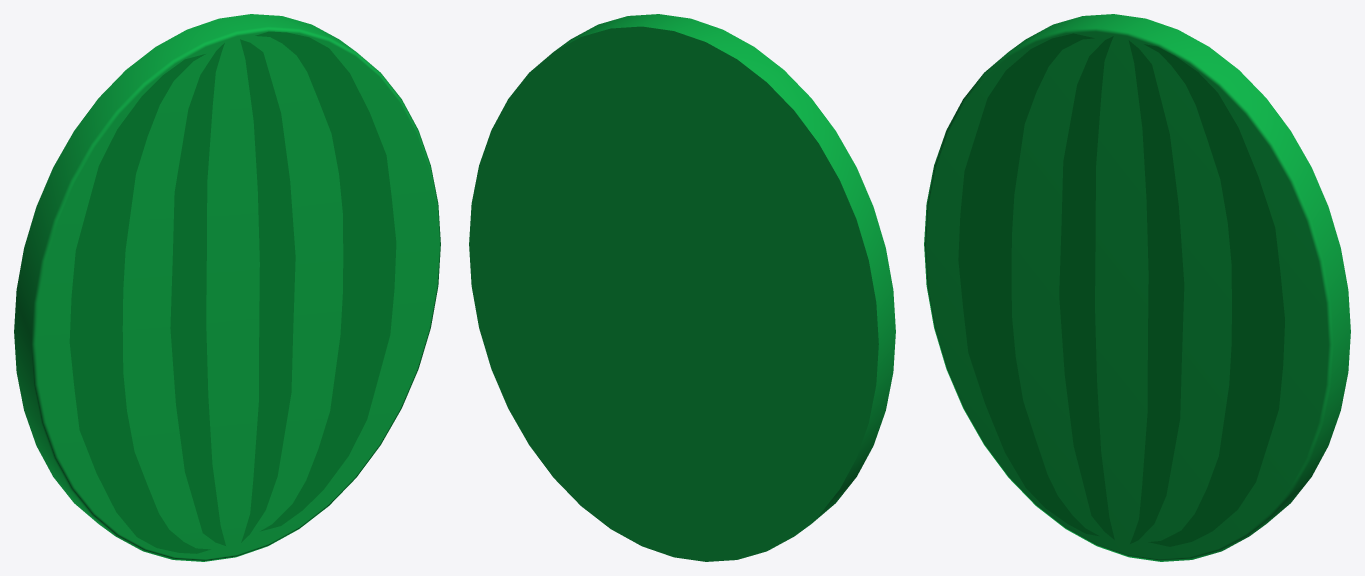
Rendered from Store_19_Watermelon_Sign_1.glb.
3 renders of one model, left to right at view 1: azimuth 30°, elevation 25°; view 2: azimuth 150°, elevation 25°; view 3: azimuth 330°, elevation 25°, orthographic.
Parts seen in each view (by area): view 1: Store_19_Watermelon_Sign_1; view 2: Store_19_Watermelon_Sign_1; view 3: Store_19_Watermelon_Sign_1.
Boxes of the visible parts, left/top/right/bottom form: Store_19_Watermelon_Sign_1: left=14, top=14, right=440, bottom=561; Store_19_Watermelon_Sign_1: left=469, top=14, right=895, bottom=561; Store_19_Watermelon_Sign_1: left=924, top=14, right=1350, bottom=561.
Bounding box in the file's own units: 0.526 × 0.6455 × 0.0426.
1 material, 1 textured.
